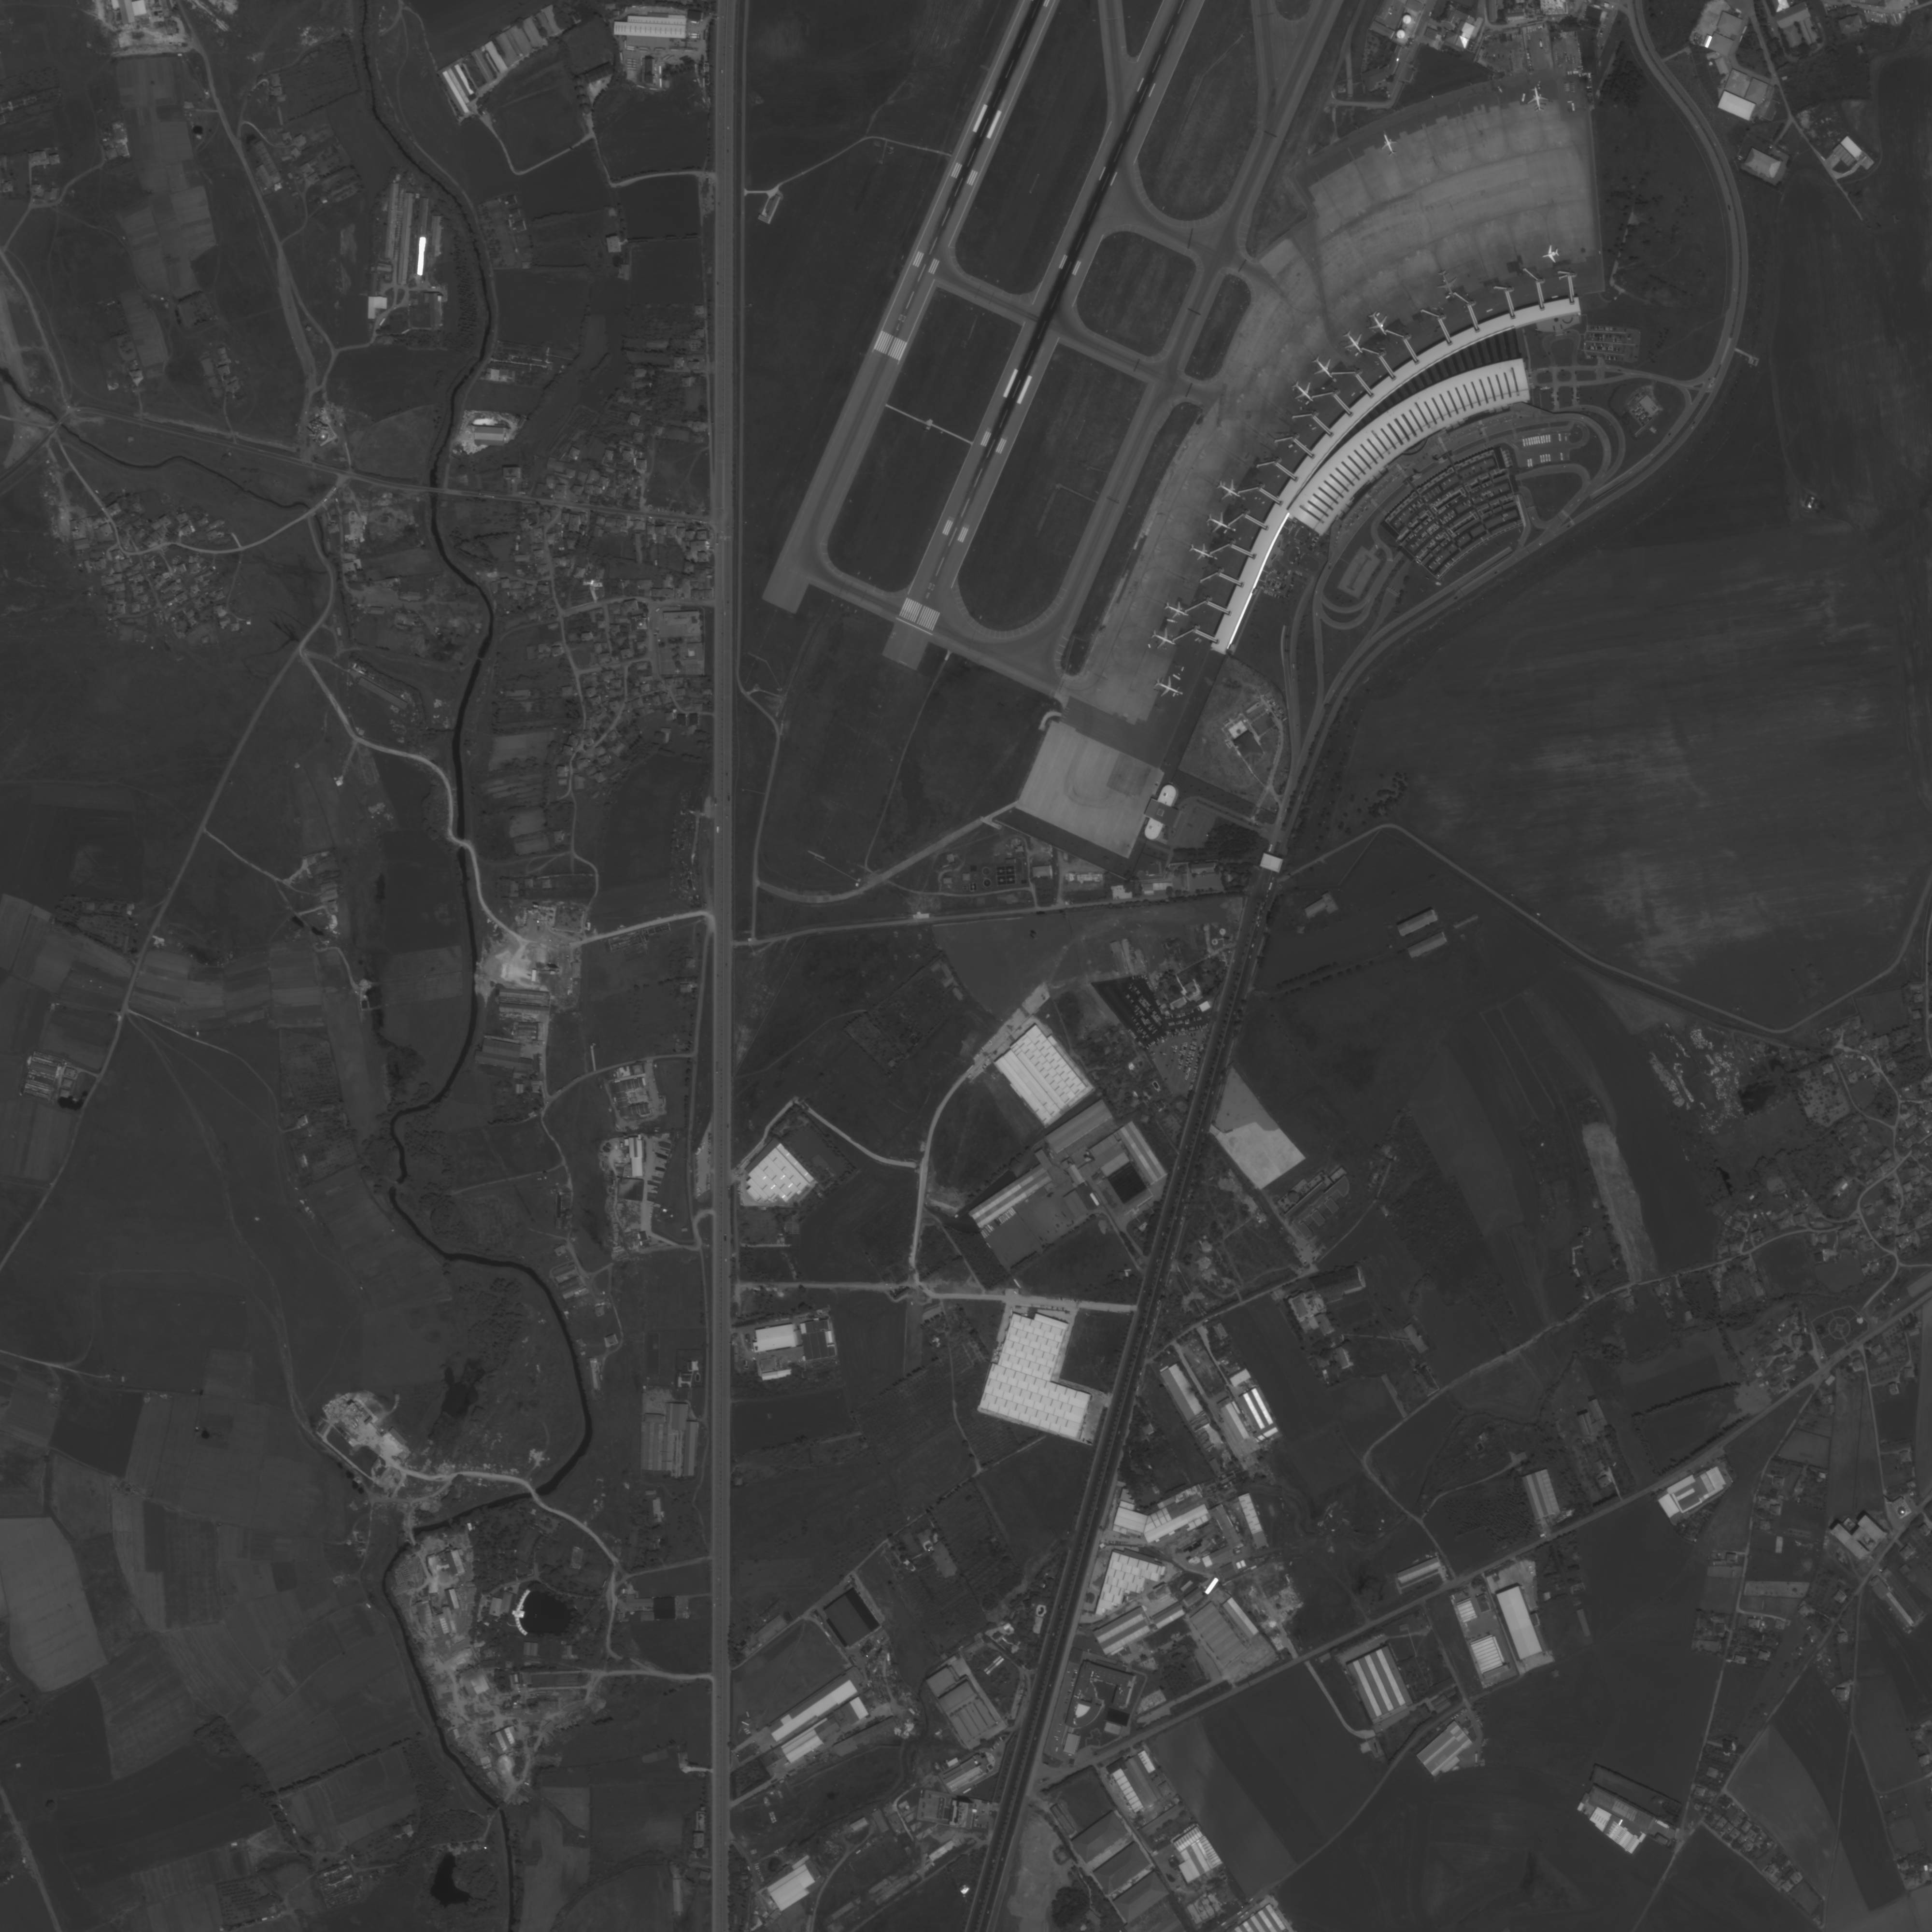bridge: (51, 416, 69, 432), (304, 502, 322, 518), (421, 485, 448, 495), (527, 1484, 541, 1504), (453, 837, 471, 849), (495, 1803, 506, 1813)
plane: (1150, 671, 1189, 706), (1201, 506, 1238, 541), (1146, 625, 1182, 658), (1159, 594, 1194, 628), (1212, 476, 1247, 510), (1307, 352, 1341, 387), (1286, 375, 1320, 409), (1362, 308, 1396, 341), (1185, 538, 1221, 570), (1339, 327, 1371, 359), (1433, 267, 1463, 301), (1527, 85, 1552, 117), (1376, 131, 1403, 159), (1539, 244, 1562, 265)
storage tank: (1401, 14, 1414, 25), (1396, 30, 1407, 39), (1007, 865, 1016, 876), (1005, 876, 1016, 885), (1897, 1507, 1907, 1516), (996, 867, 1005, 876), (996, 876, 1005, 885), (984, 879, 993, 888), (982, 867, 989, 876)
